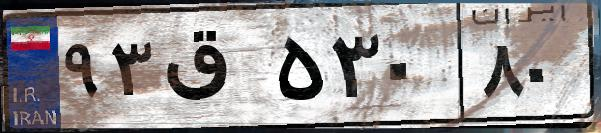0: (385, 28, 445, 110), (525, 38, 570, 115)
3: (330, 28, 385, 110), (110, 28, 158, 98)
5: (270, 28, 330, 110)
8: (475, 38, 525, 113)
9: (57, 26, 110, 100)
ق: (158, 20, 270, 120)
